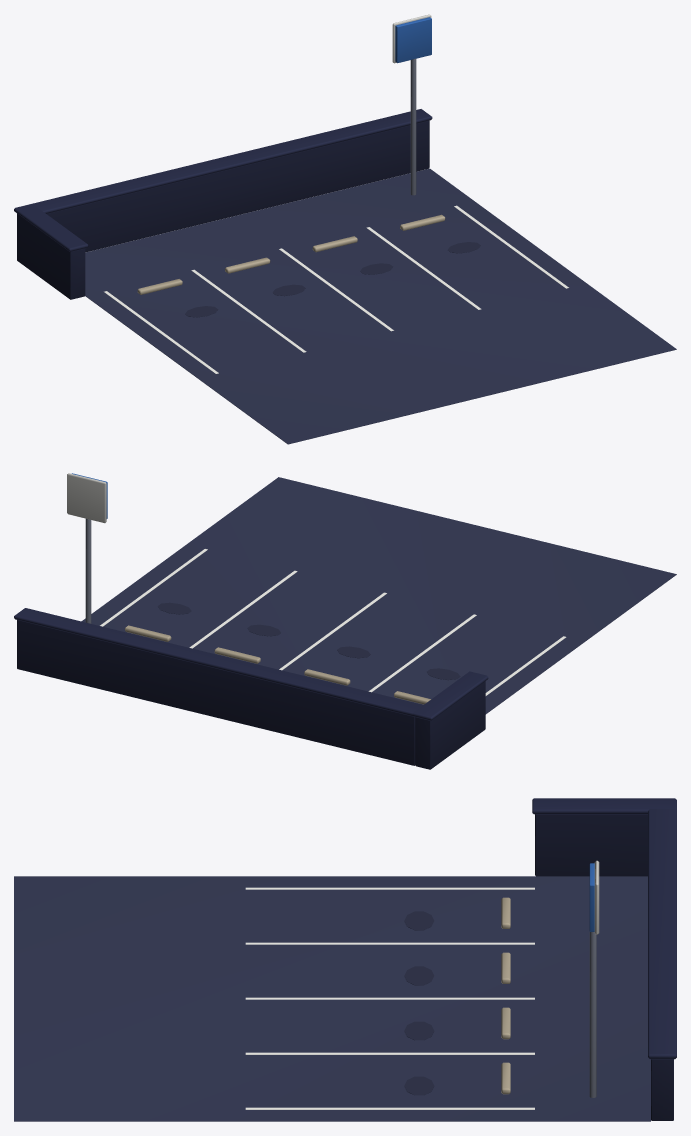
File: SM_City_ParkingLot.fbx
3 renders of one model, top to bottom at view 1: azimuth 30°, elevation 25°; view 2: azimuth 150°, elevation 25°; view 3: azimuth 270°, elevation 25°, orthographic. The views are drawn at different scales.
Visible parts, largest first — view 1: SM_City_ParkingLot; view 2: SM_City_ParkingLot; view 3: SM_City_ParkingLot.
Part boxes in pixels (box(x1,y1,x2,y2)): SM_City_ParkingLot: box(14, 14, 676, 444); SM_City_ParkingLot: box(14, 473, 676, 769); SM_City_ParkingLot: box(14, 798, 676, 1121).
Size of the model in its own units: 1050 by 429 by 1145.
